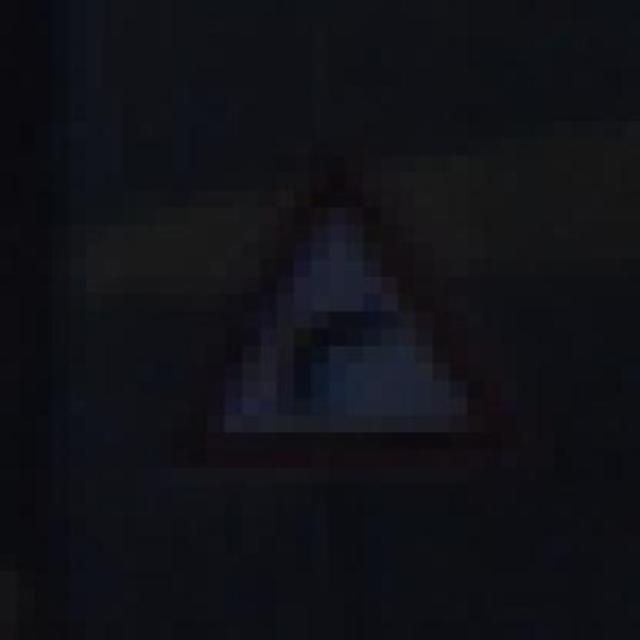Dangerous Rright Curve Ahead: (138, 156, 502, 502)
